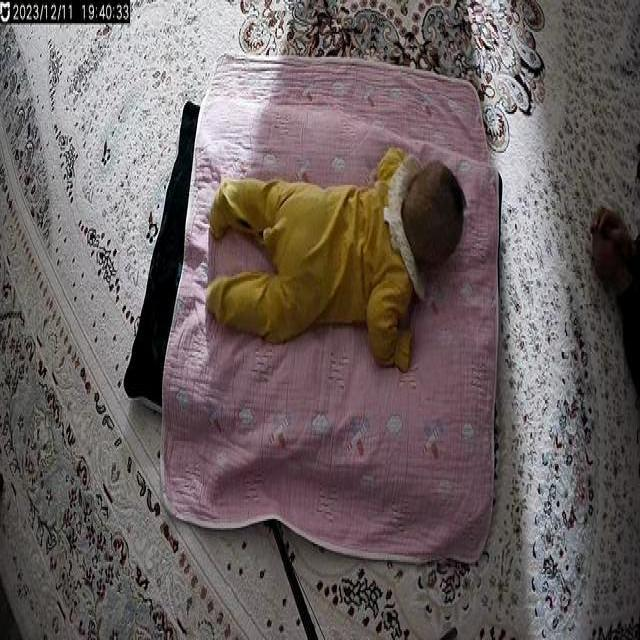baby: (190, 96, 464, 388)
